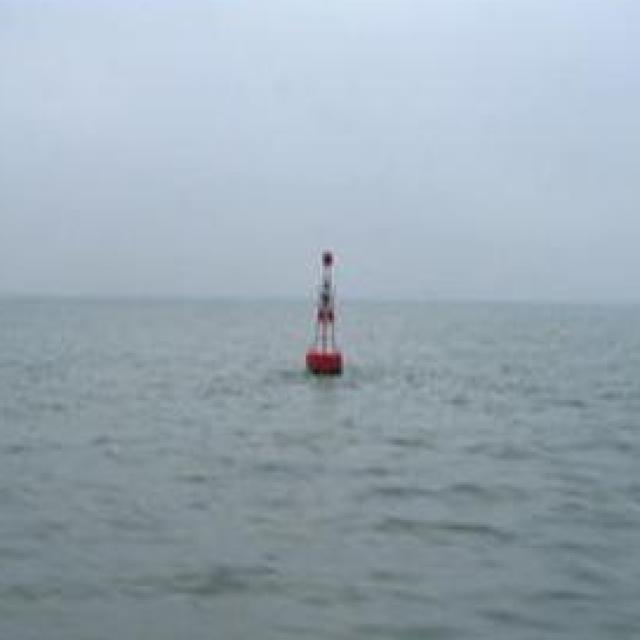buoy: (298, 240, 352, 383)
